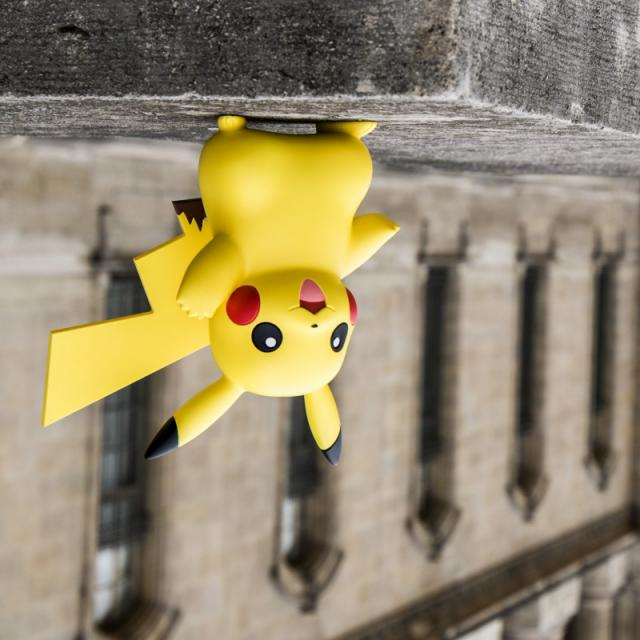Pikachu: (0, 54, 496, 513)
